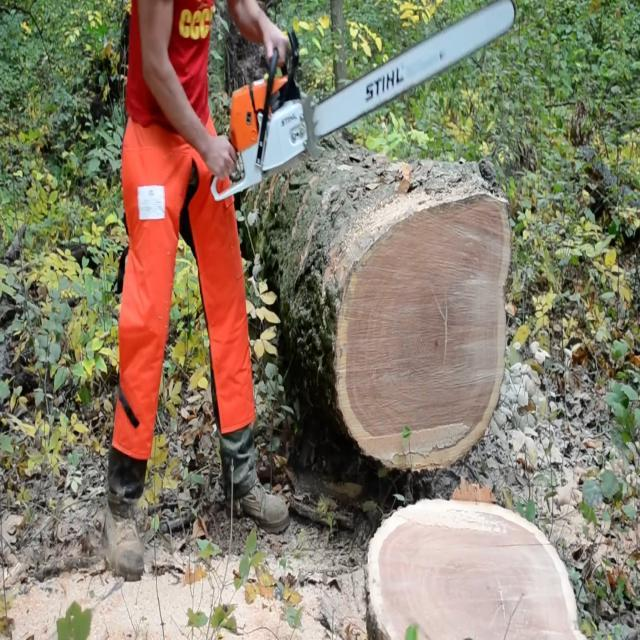Chainsaw: (196, 3, 524, 204)
